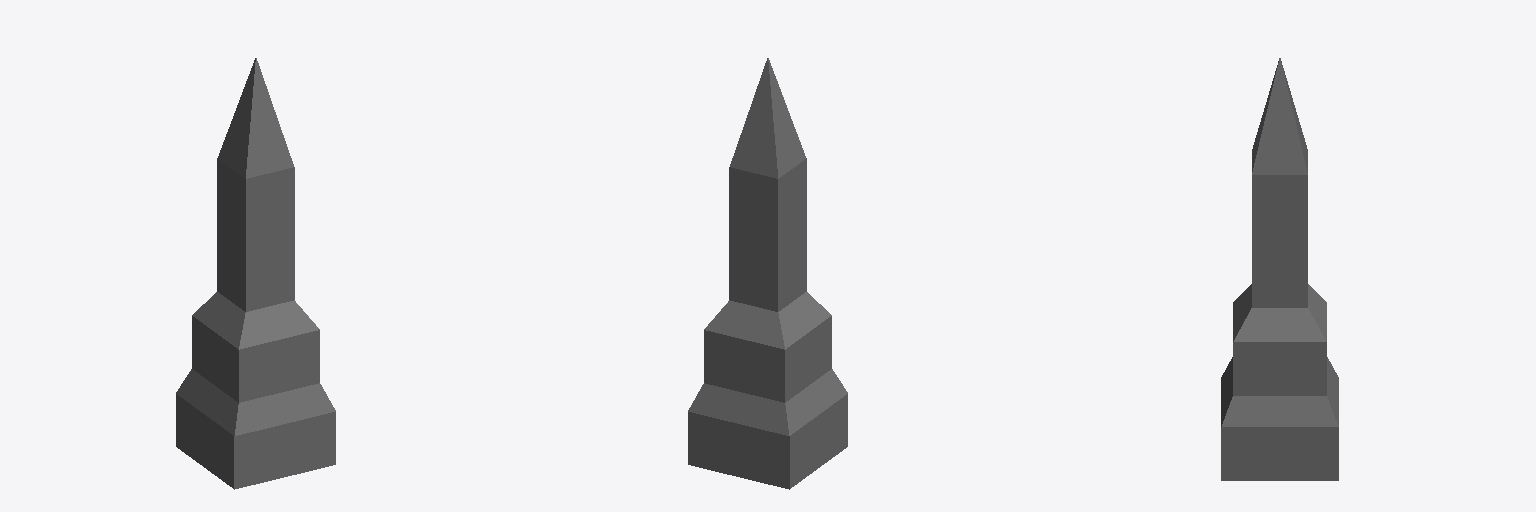
Rendered from LinkTower.obj.
3 views of the same model, side by side, from view 1: azimuth 30°, elevation 25°; view 2: azimuth 150°, elevation 25°; view 3: azimuth 270°, elevation 25° (orthographic).
Visible parts, largest first — view 1: LinkTower; view 2: LinkTower; view 3: LinkTower.
Part boxes in pixels (bbox=[...]): LinkTower: bbox=[176, 58, 335, 489]; LinkTower: bbox=[688, 58, 847, 489]; LinkTower: bbox=[1221, 58, 1338, 480].
Bounding box in the file's own units: 4 × 15 × 4.